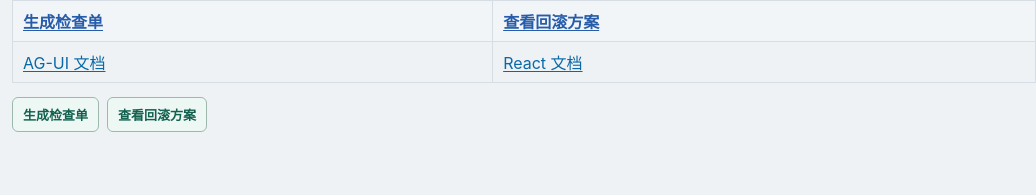
Scenario: MarkdownMessage › renders a two-by-two table with working actions and external links
Expected: the number of rows is 2, [12,0,1035,42]; [12,42,1035,82]
Click the 1st button "生成检查单": (63, 21) [23,9,103,33]
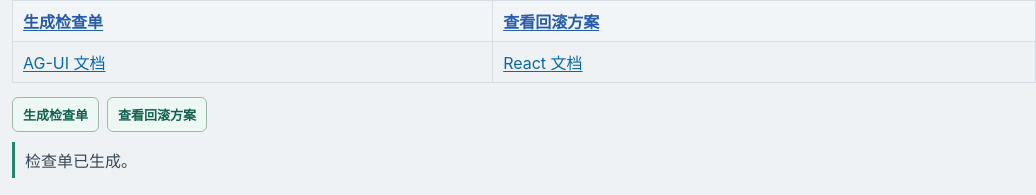
Expected: the message reads "检查单已生成。", [25,151,137,171]
Click the 1st button "查看回滚方案": (551, 21) [503,9,599,33]
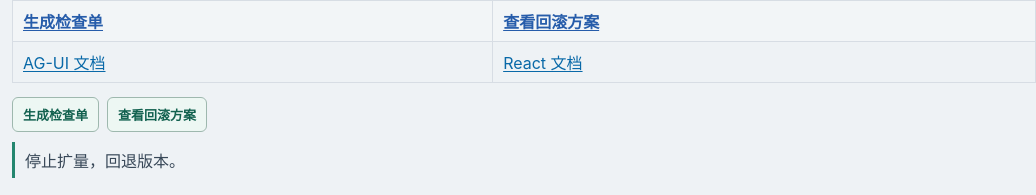
Expected: the number of links is 2, [23,53,106,73]; [503,53,582,73]
Expected: the message reads "停止扩量，回退版本。", [25,151,185,171]
